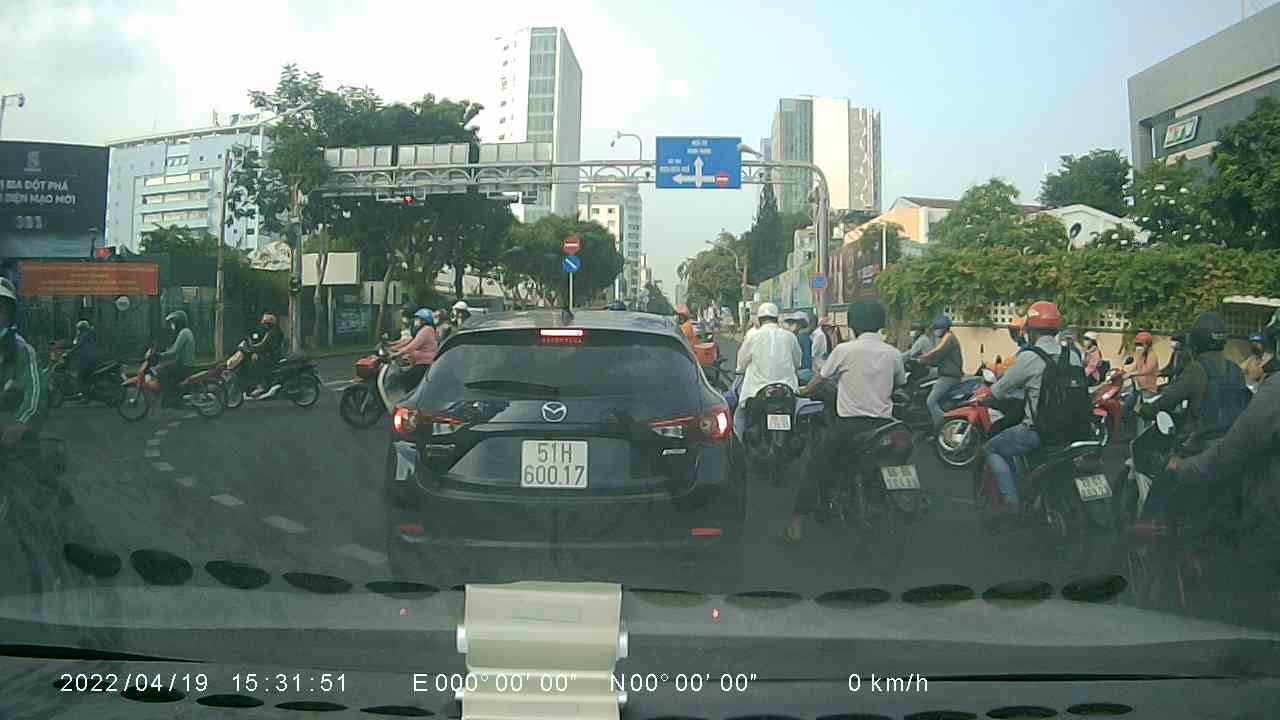Cam di nguoc chieu: (562, 232, 581, 250)
Cam do xe: (806, 269, 826, 290)
Huong di phai re phai: (563, 254, 579, 272)
